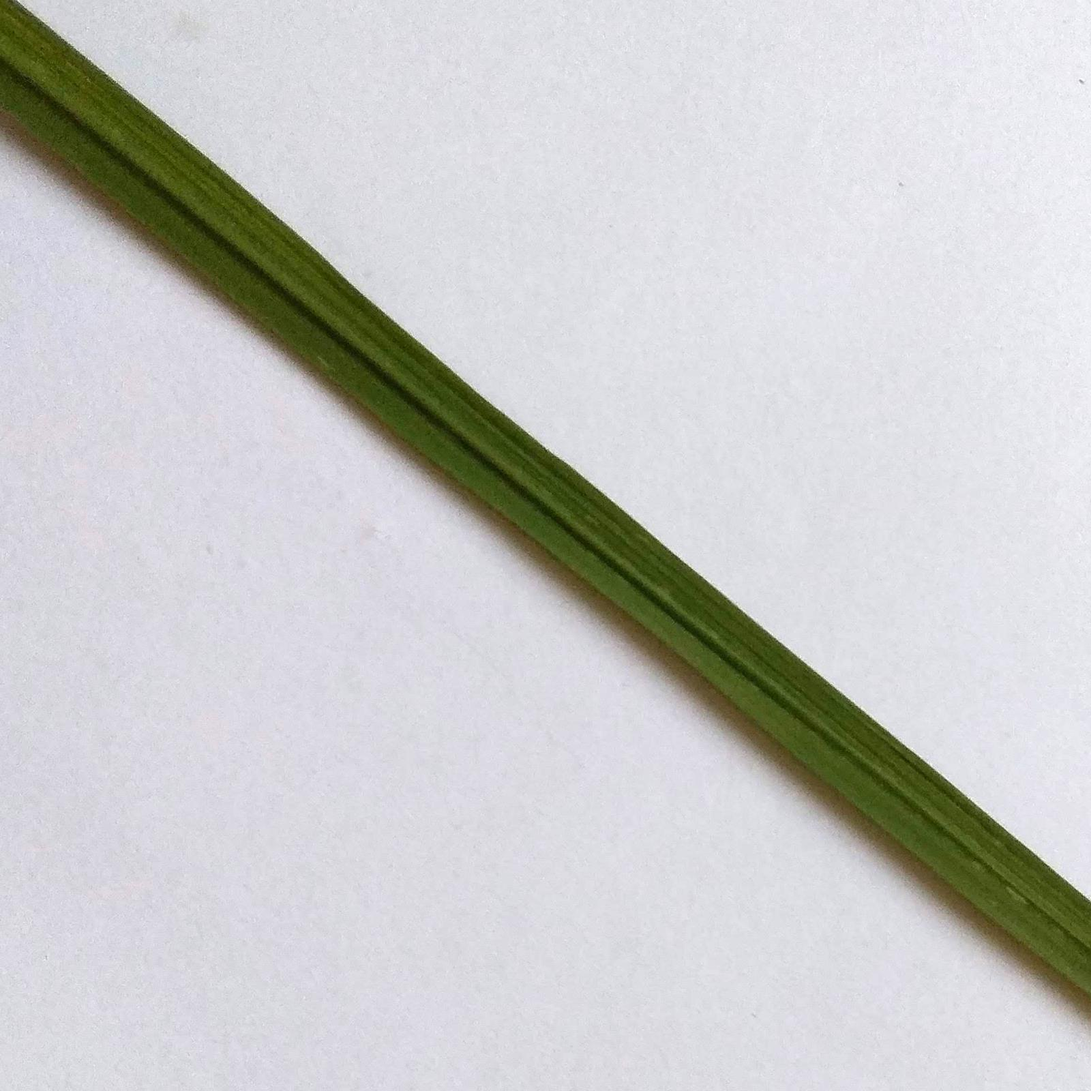Healthy: (3, 1, 1091, 991)
